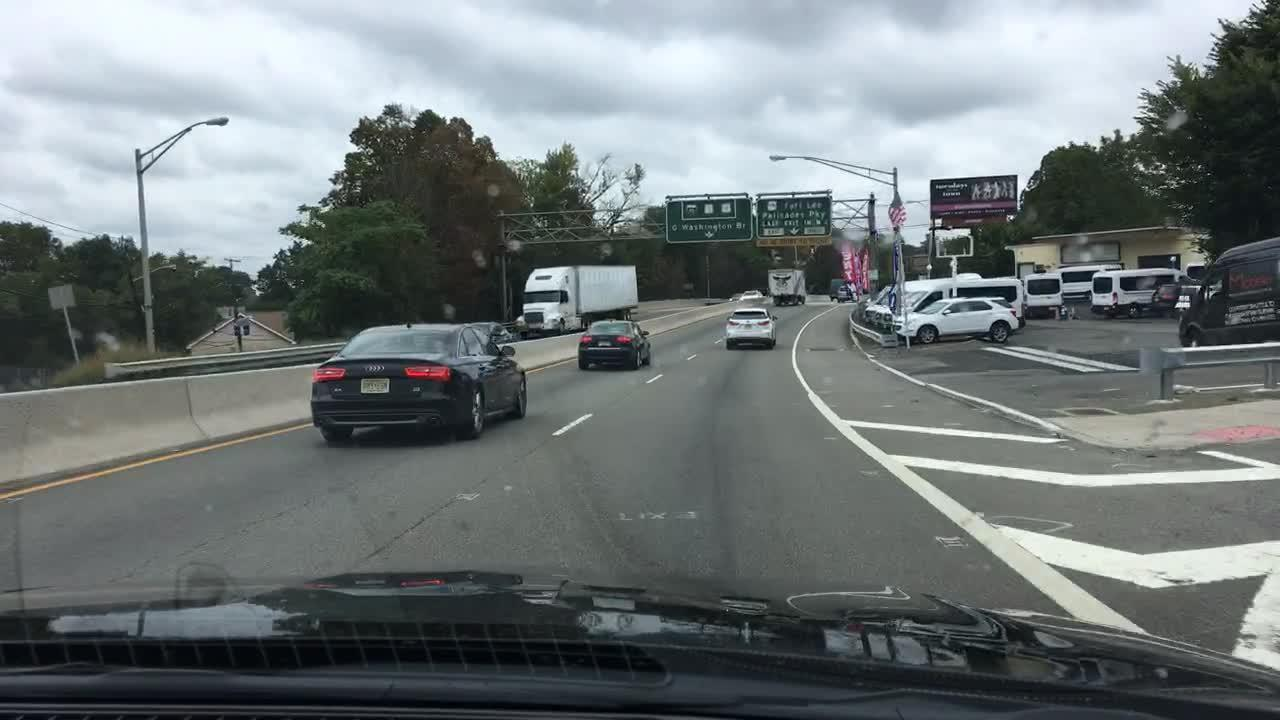Audi: (359, 360, 390, 374)
